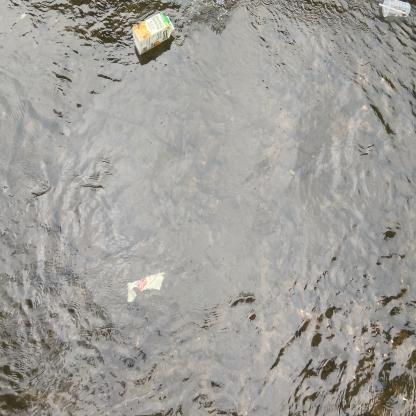trash: (130, 9, 176, 57), (124, 266, 168, 306), (375, 0, 416, 23)
